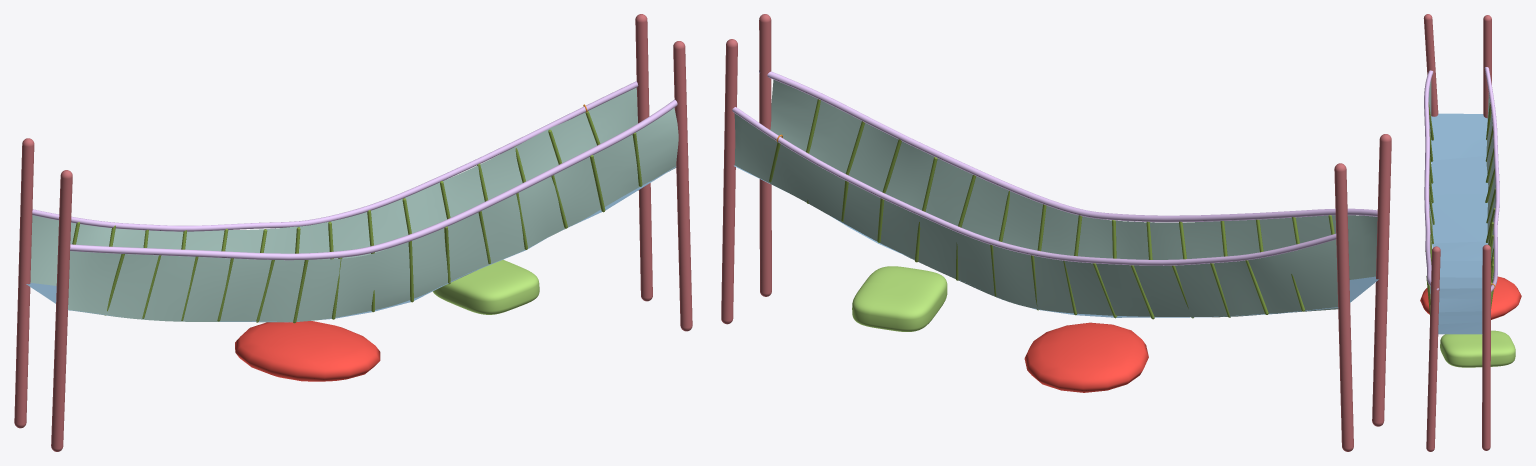
The model's file is bridgeSus2_cushions.fbx.
The picture shows the model from 3 angles, left to right: view 1: azimuth 30°, elevation 25°; view 2: azimuth 150°, elevation 25°; view 3: azimuth 270°, elevation 25°; orthographic projection. The views are drawn at different scales.
Visible parts, largest first — view 1: n.0128, n.0130, s.0134, s.0061, s.0060, p.0152, p.0052, p.0053, p.0054, p.0051, s.0122; view 2: n.0130, n.0128, s.0134, p.0152, s.0061, s.0060, p.0053, p.0052, p.0051, p.0054, s.0122; view 3: s.0122, p.0152, p.0054, p.0051, s.0061, s.0060, s.0134, p.0053, p.0052, n.0130, n.0128.
Part boxes in pixels (x1,y1,x2,y2): n.0128: (68,108,678,322); n.0130: (30,87,637,285); s.0134: (235,321,380,381); s.0061: (70,99,677,260); s.0060: (32,81,638,231); p.0152: (433,259,539,314); p.0052: (14,138,34,428); p.0053: (51,170,72,451); p.0054: (673,41,692,331); p.0051: (635,14,652,301); s.0122: (26,166,676,322); n.0130: (734,113,1338,317); n.0128: (770,79,1377,279); s.0134: (1024,322,1148,392); p.0152: (852,266,947,331); s.0061: (759,70,1377,222); s.0060: (732,107,1336,265); p.0053: (1372,134,1391,426); p.0052: (1334,163,1353,451); p.0051: (721,39,737,324); p.0054: (759,14,771,296); s.0122: (734,165,1378,317); s.0122: (1431,113,1488,334); p.0152: (1440,330,1515,367); p.0054: (1426,246,1440,451); p.0051: (1482,244,1490,450); s.0061: (1424,70,1438,290); s.0060: (1484,67,1499,291); s.0134: (1420,276,1521,319); p.0053: (1423,14,1438,116); p.0052: (1483,15,1491,118); n.0130: (1486,93,1495,278); n.0128: (1428,80,1432,298).
Size of the model in its own units: 11.87 by 2.32 by 5.59.
